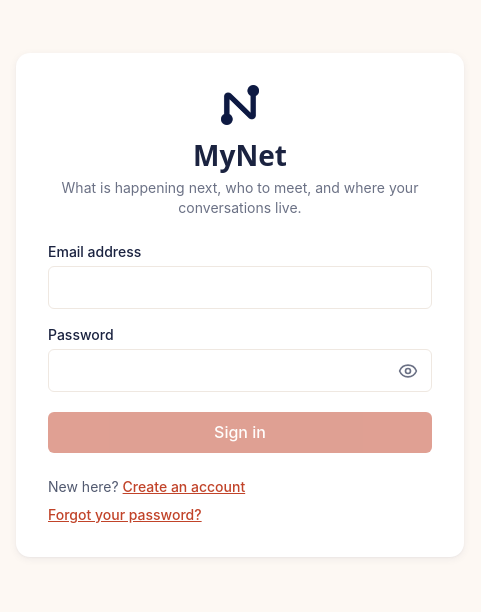
it: SignInScreen › announces a failure through an alert, so it is not silently visual
The image size is (481, 612).
Type "ada@example.com" into the field labelled "Email address". click: [240, 288]
box: [48,266,432,309]
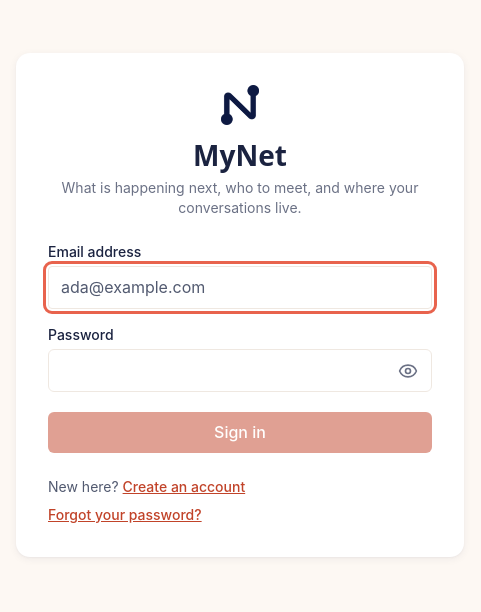
Type "wrong" into the password field labelled "Password". click: [240, 371]
box: [48,349,432,392]
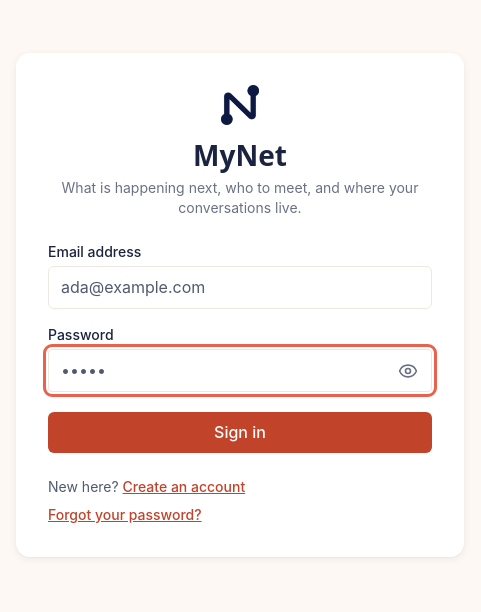
Click the button "Sign in". click: [240, 432]
box: [48,412,432,453]
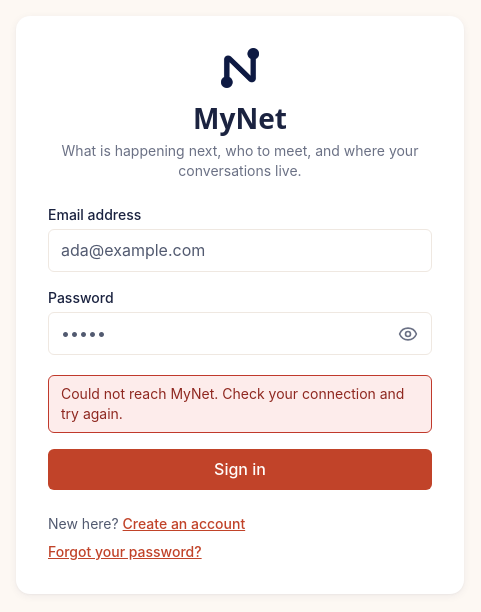
expect the message "Could not reach MyNet. Check your connection and try again." is shown: met, box [48,375,432,433]
